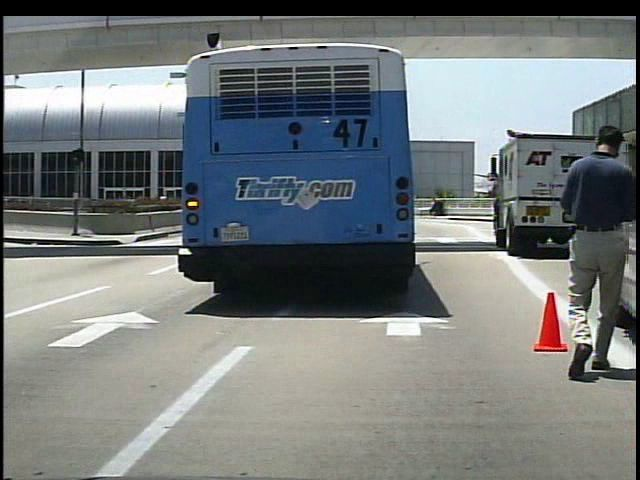person: (560, 117, 636, 377)
